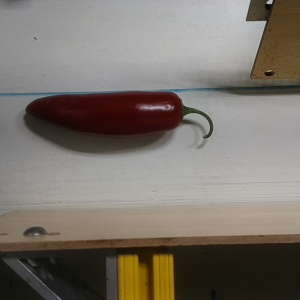Cut Point: (167, 90, 190, 129)
